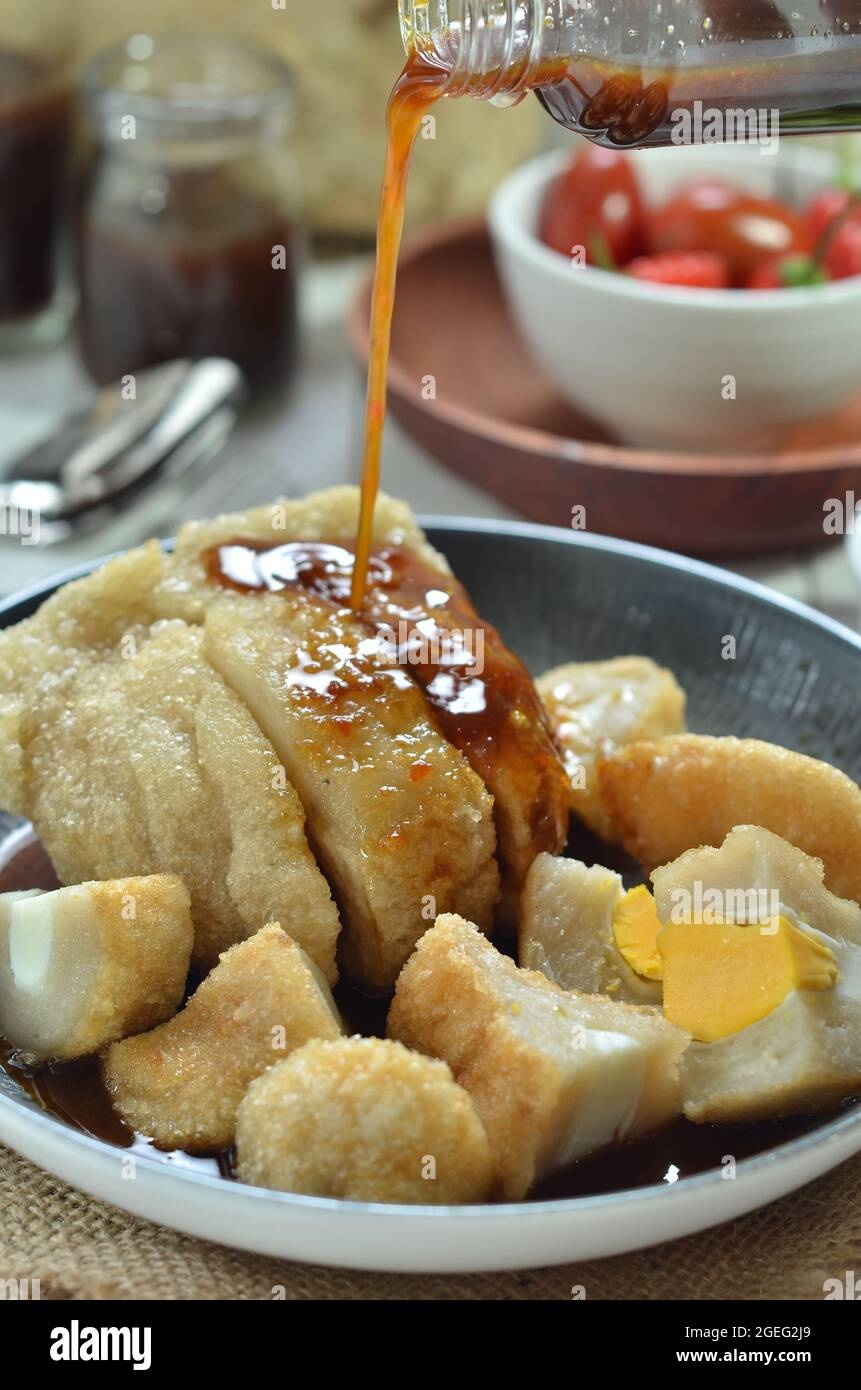pempek: (4, 484, 861, 1203)
